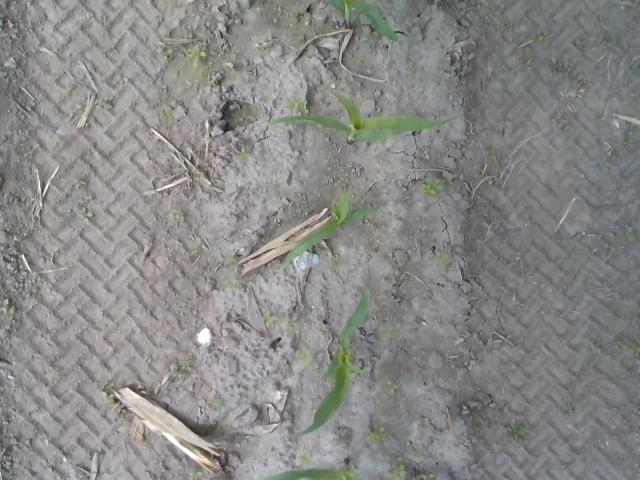Maize: (292, 282, 371, 440), (266, 86, 452, 144), (283, 189, 373, 268), (326, 0, 398, 44), (262, 457, 361, 480)
Weeds: (186, 42, 208, 68), (386, 457, 408, 480), (168, 361, 193, 380), (614, 336, 640, 352), (612, 127, 634, 145), (420, 178, 444, 194), (367, 425, 386, 444), (282, 97, 306, 112), (78, 206, 95, 226), (298, 344, 313, 365), (0, 296, 15, 316), (384, 380, 401, 396), (282, 314, 298, 330), (102, 390, 117, 406), (222, 277, 238, 291), (260, 314, 276, 328), (167, 207, 184, 220), (233, 146, 248, 160), (511, 422, 528, 434), (434, 253, 449, 266), (94, 100, 113, 110), (625, 232, 639, 243), (532, 31, 544, 43), (224, 252, 238, 262), (188, 470, 202, 480), (382, 326, 393, 338), (192, 242, 202, 255), (72, 178, 85, 188), (299, 453, 312, 463), (193, 171, 206, 180), (486, 150, 496, 161), (162, 48, 172, 59), (422, 474, 434, 480)
